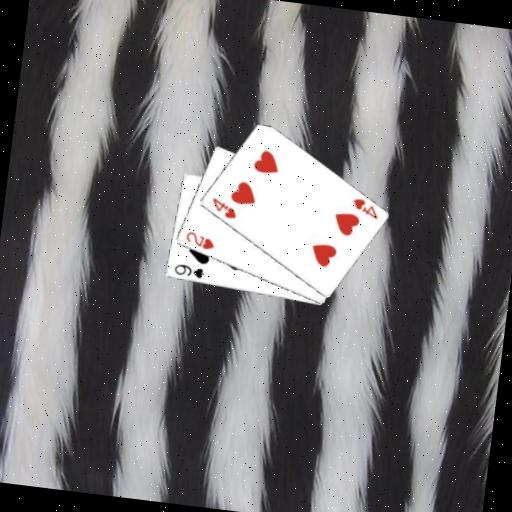2H: (181, 228, 217, 252)
4H: (348, 195, 381, 222), (207, 195, 240, 221)
9S: (170, 260, 206, 281)
